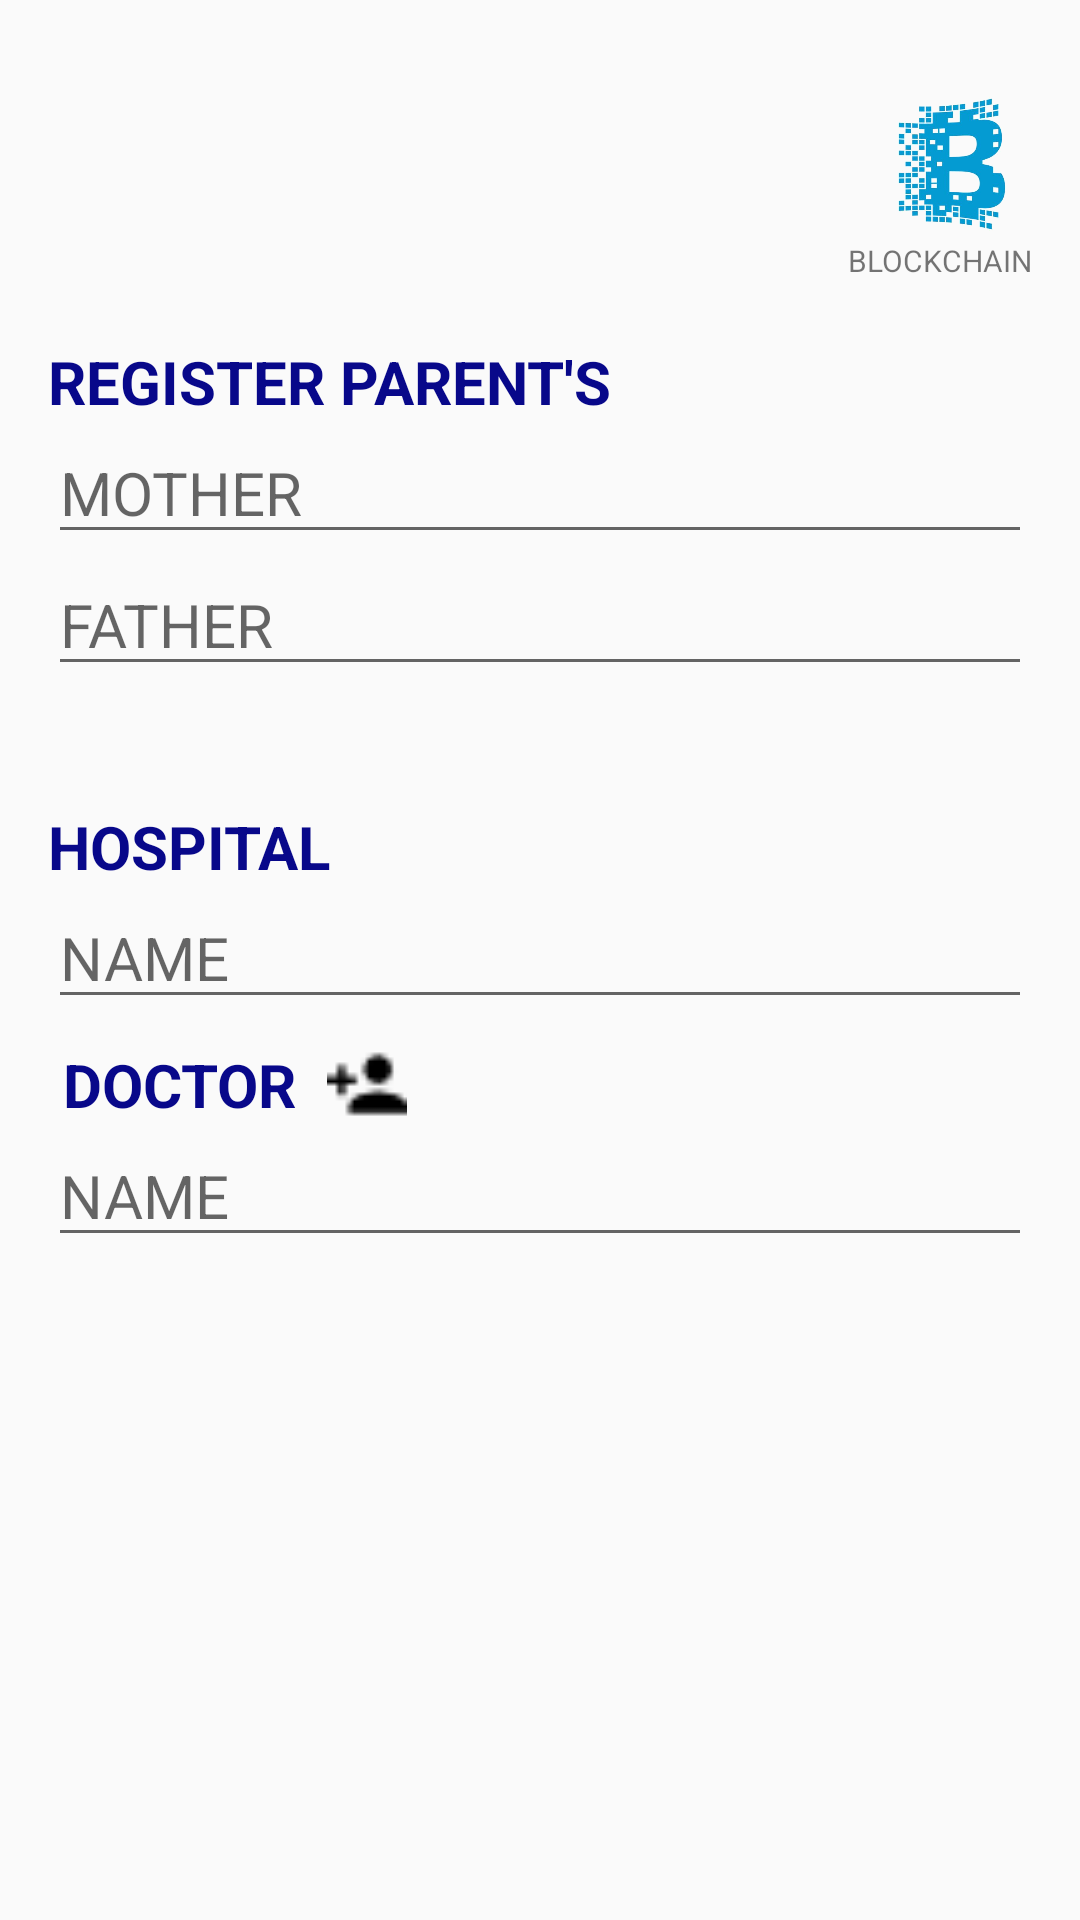

Icons on this 1080 × 1920 Android screen, each with its box as [left=x1, top=y1, right=x2, bottom=y2]:
adduser: [left=327, top=1052, right=407, bottom=1116]
